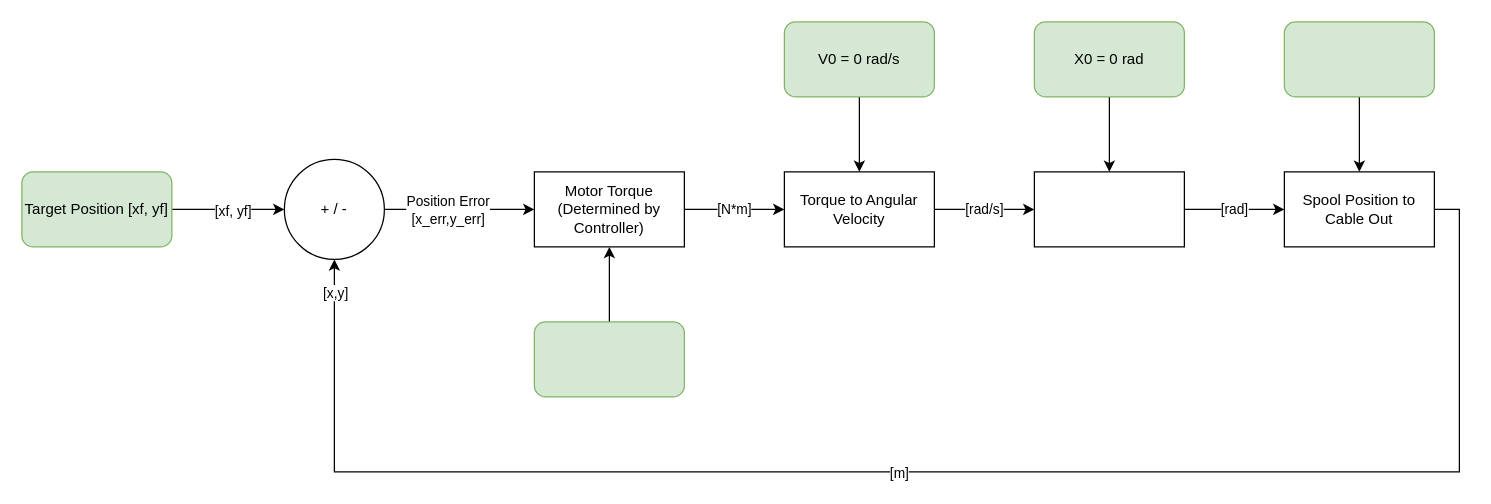
Image size: 1491x504. Some labels were removed from this diagram. Each missing label, with the box of its shape:
Angular Velocity to Spool Position: (1033, 171, 1184, 247)
Object Home Position [x0, y0]: (1283, 21, 1434, 97)
Robot's Position [xr, yr]: (533, 321, 684, 397)
